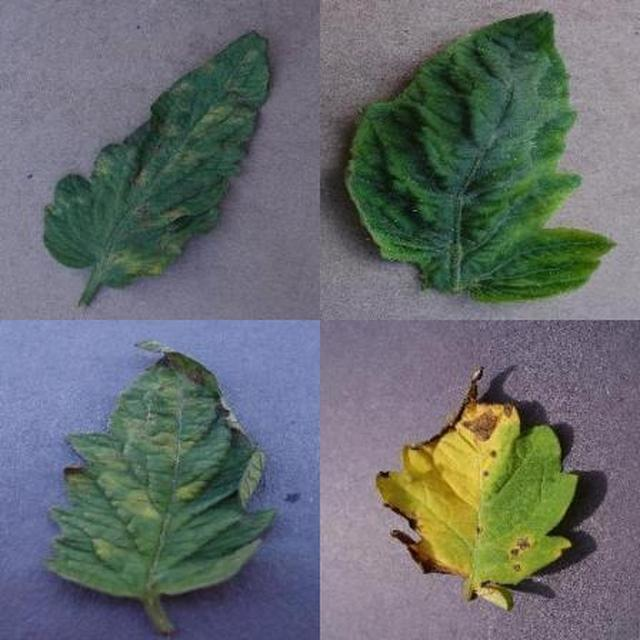Leaf Mold: (226, 218, 640, 640)
